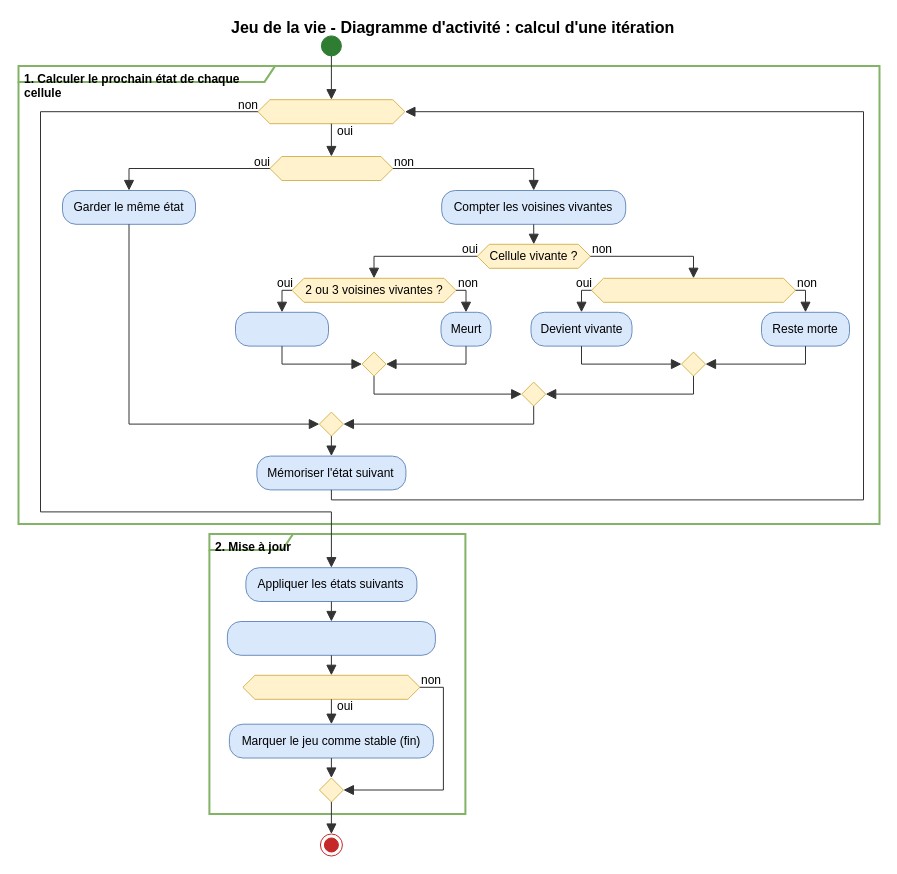
Image size: 897x874. Some labels were removed from this diagram. Here are the shapes that lost their labels. From the top down, the centre of each, then its label:
the point at 331,111: Reste-t-il une cellule ?
the point at 331,168: Cellule obstacle ?
the point at 693,289: Exactement 3 voisines vivantes ?
the point at 281,328: Reste vivante
the point at 330,637: Incrémenter le nombre d'itérations
the point at 331,686: Aucune cellule n'a changé ?
